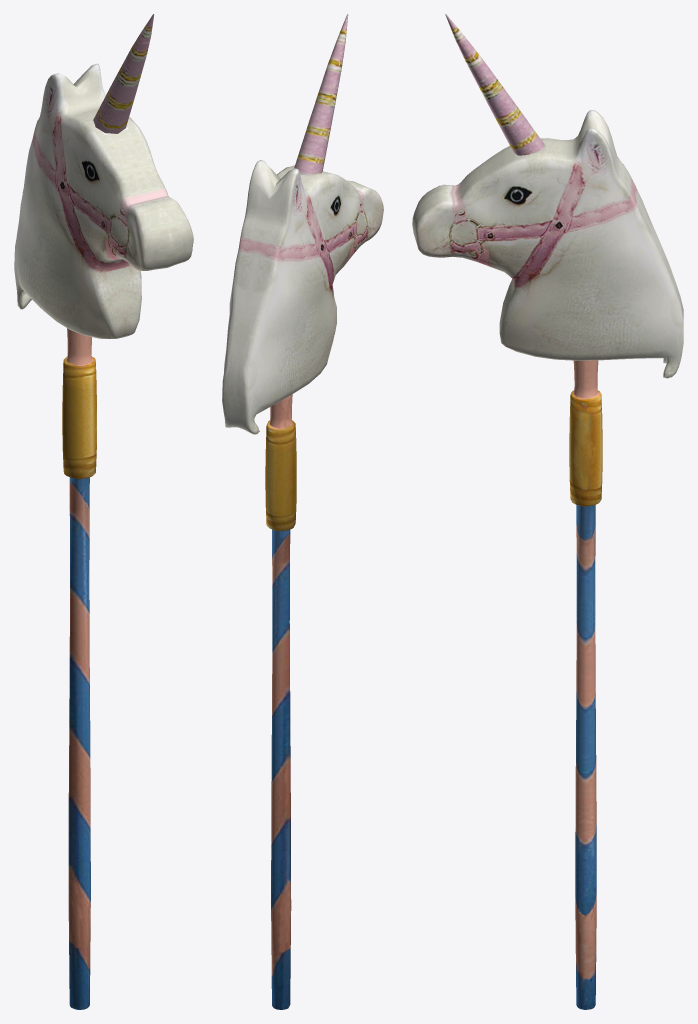
File: Einhorn.fbx
3 renders of one model, left to right at view 1: azimuth 30°, elevation 25°; view 2: azimuth 150°, elevation 25°; view 3: azimuth 270°, elevation 25°, orthographic. The views are drawn at different scales.
Parts seen in each view (by area): view 1: Einhorn_0; view 2: Einhorn_0; view 3: Einhorn_0.
Part boxes in pixels (x1=…): Einhorn_0: x1=14, y1=14, x2=193, y2=1009; Einhorn_0: x1=222, y1=14, x2=383, y2=1009; Einhorn_0: x1=412, y1=14, x2=683, y2=1009.
Bounding box in the file's own units: 185 × 2559 × 634.
Materials: 1 (1 with a texture image).
